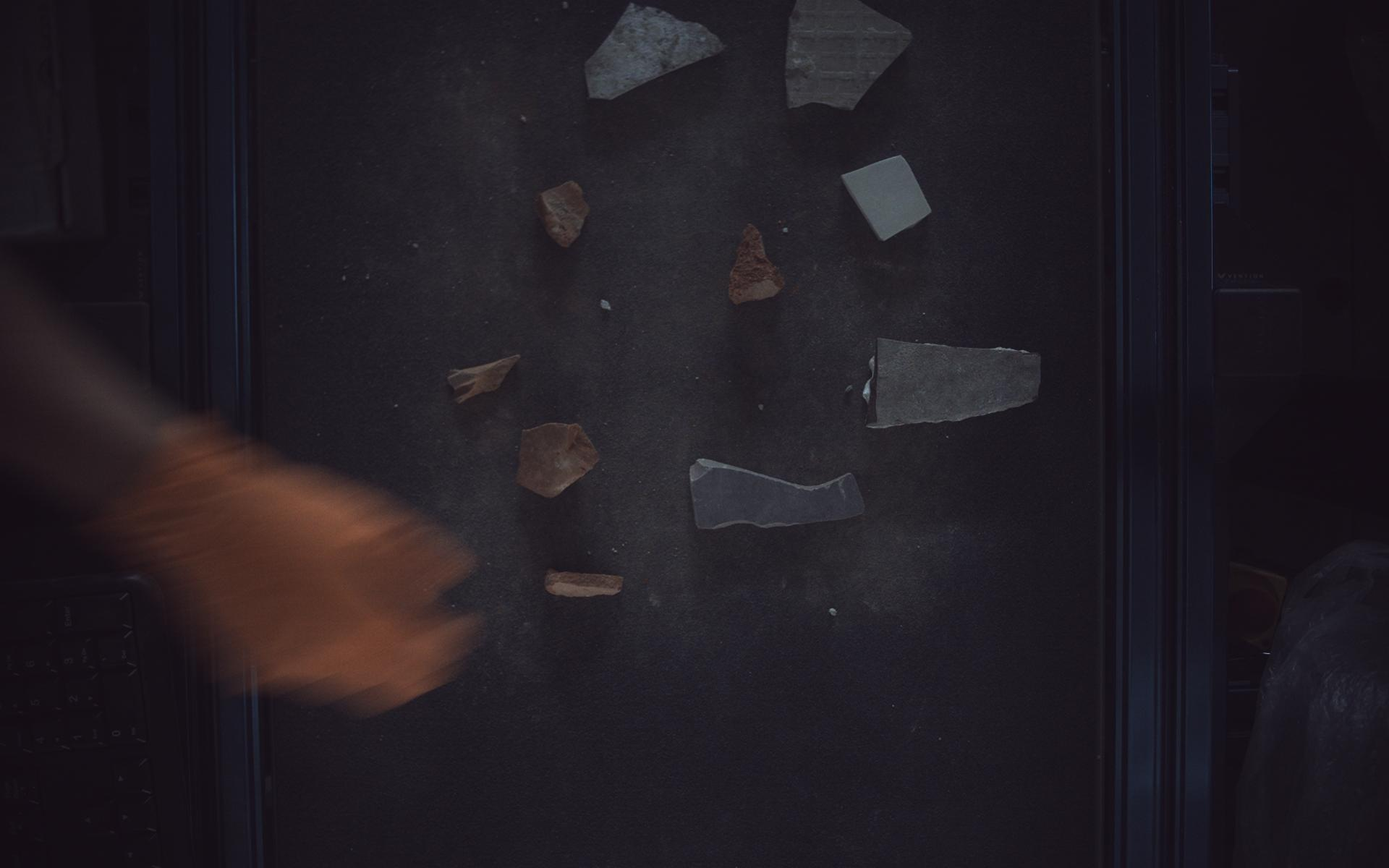brick: (516, 422, 600, 498), (731, 224, 786, 304), (536, 180, 590, 247), (448, 355, 520, 404), (545, 570, 624, 597)
tile: (870, 338, 1042, 428), (586, 1, 726, 98), (788, 1, 913, 109), (691, 459, 866, 529), (843, 154, 933, 240)
